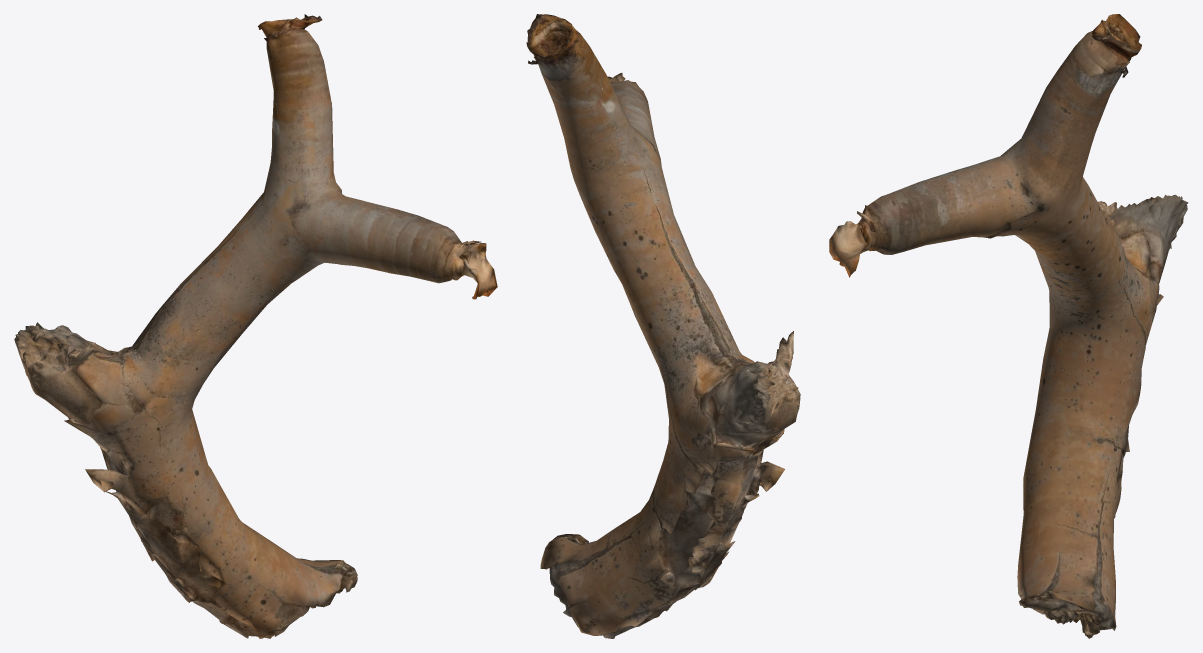
File: dead_quiver_branch_01.glb
The picture shows the model from 3 angles, left to right: view 1: azimuth 30°, elevation 25°; view 2: azimuth 150°, elevation 25°; view 3: azimuth 270°, elevation 25°; orthographic projection. The views are drawn at different scales.
Visible parts, largest first — view 1: dead_quiver_branch_01; view 2: dead_quiver_branch_01; view 3: dead_quiver_branch_01.
Part boxes in pixels (x1=…): dead_quiver_branch_01: x1=14, y1=14, x2=497, y2=638; dead_quiver_branch_01: x1=526, y1=14, x2=800, y2=638; dead_quiver_branch_01: x1=829, y1=14, x2=1188, y2=638.
Size of the model in its own units: 0.2549 by 0.4384 by 0.2268.
1 material, 1 textured.
